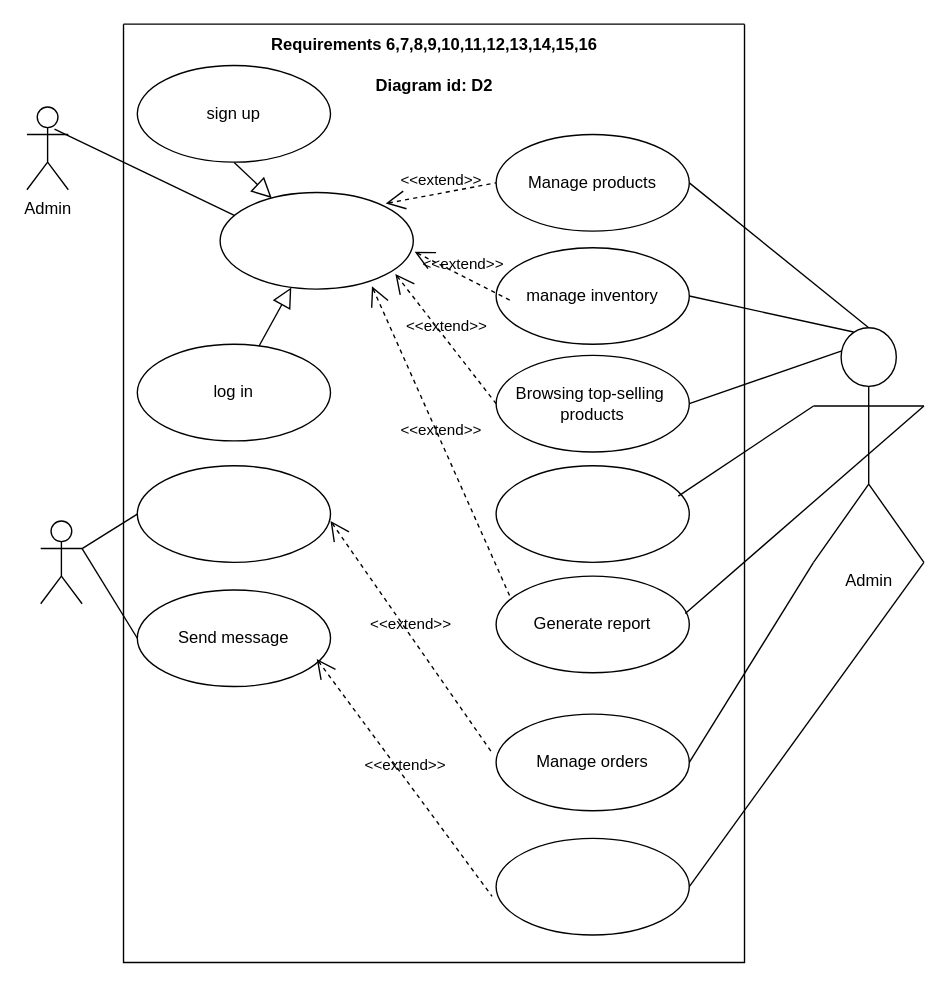
Some shapes in this 949 by 987 pixel diagram are drawn without their labels. The centre of each missing label's shape, as x and y in pixels:
Checkout: point 233,513
Manage offers: point 592,513
Register: point 316,240
Review messages: point 592,886
User: point 60,562
